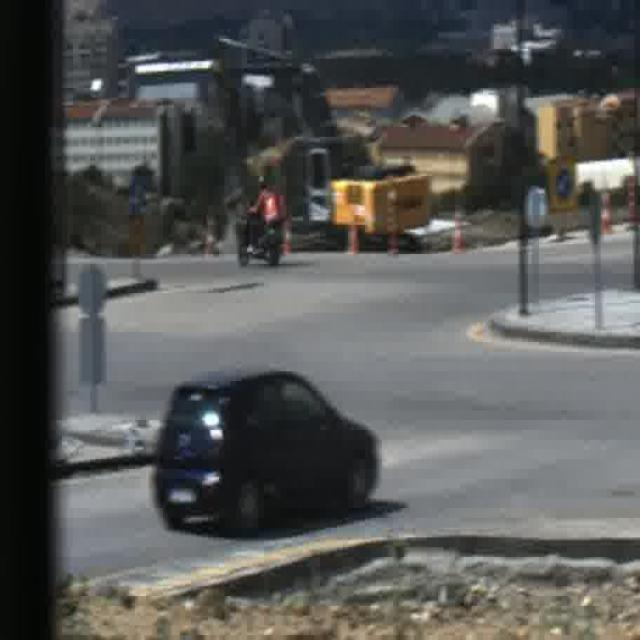Car: (154, 368, 378, 528)
Motorcycle: (236, 175, 284, 268)
